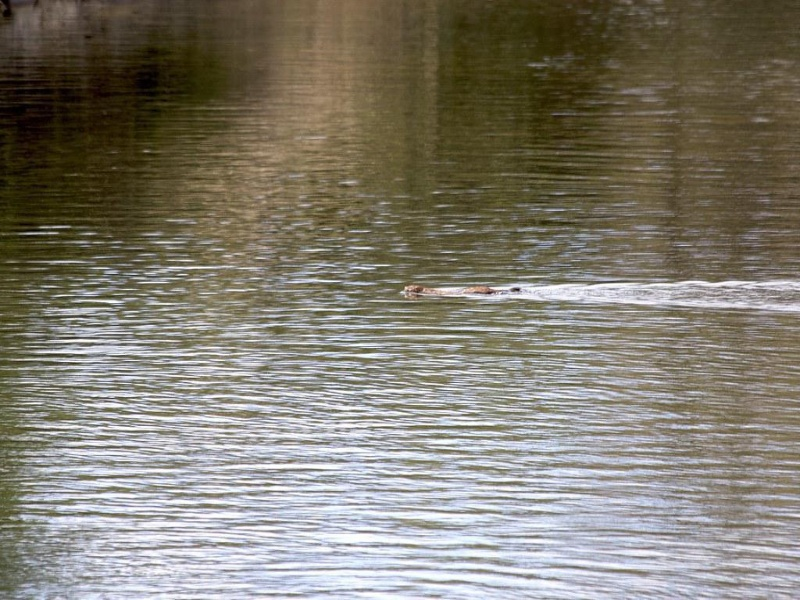minkish: (402, 282, 531, 297)
